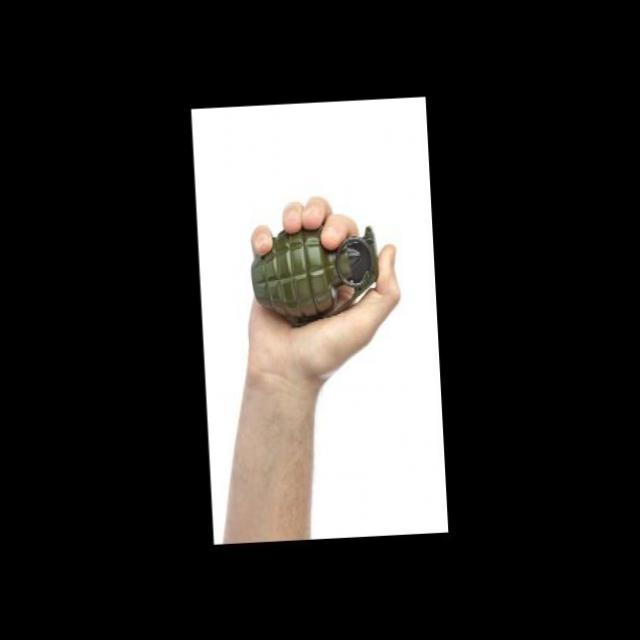grenade: (244, 217, 384, 328)
